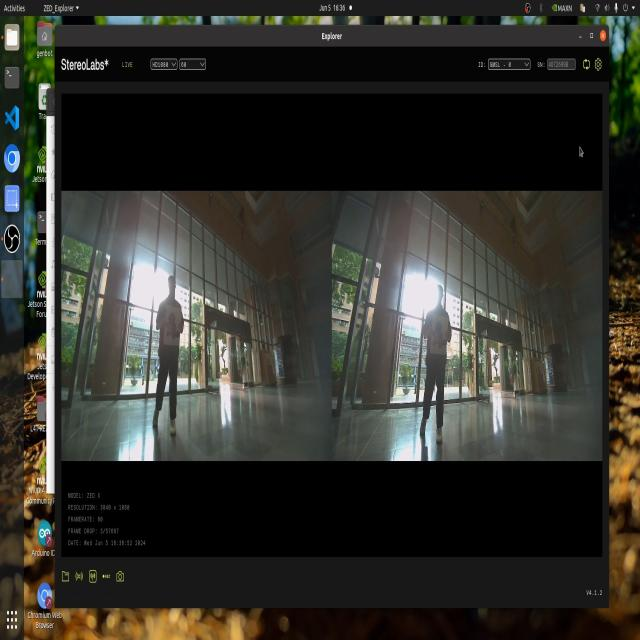blue: (166, 306, 183, 345), (427, 320, 446, 354)
